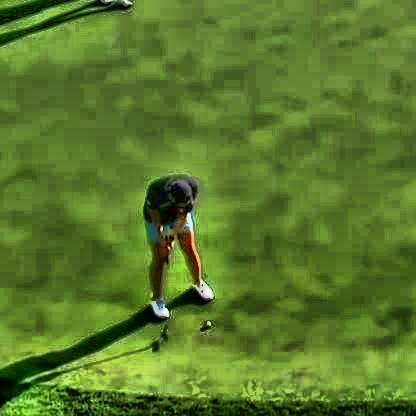golfball: (203, 315, 210, 325)
